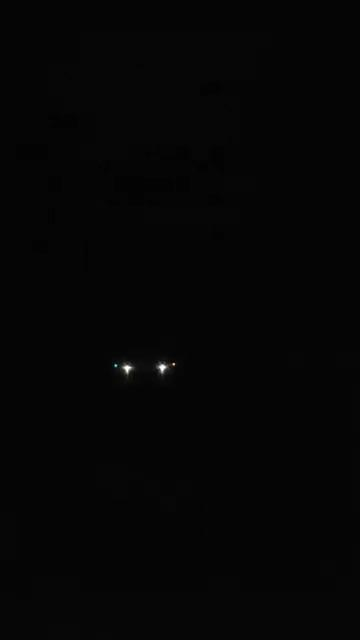Plane: (87, 330, 204, 407)
